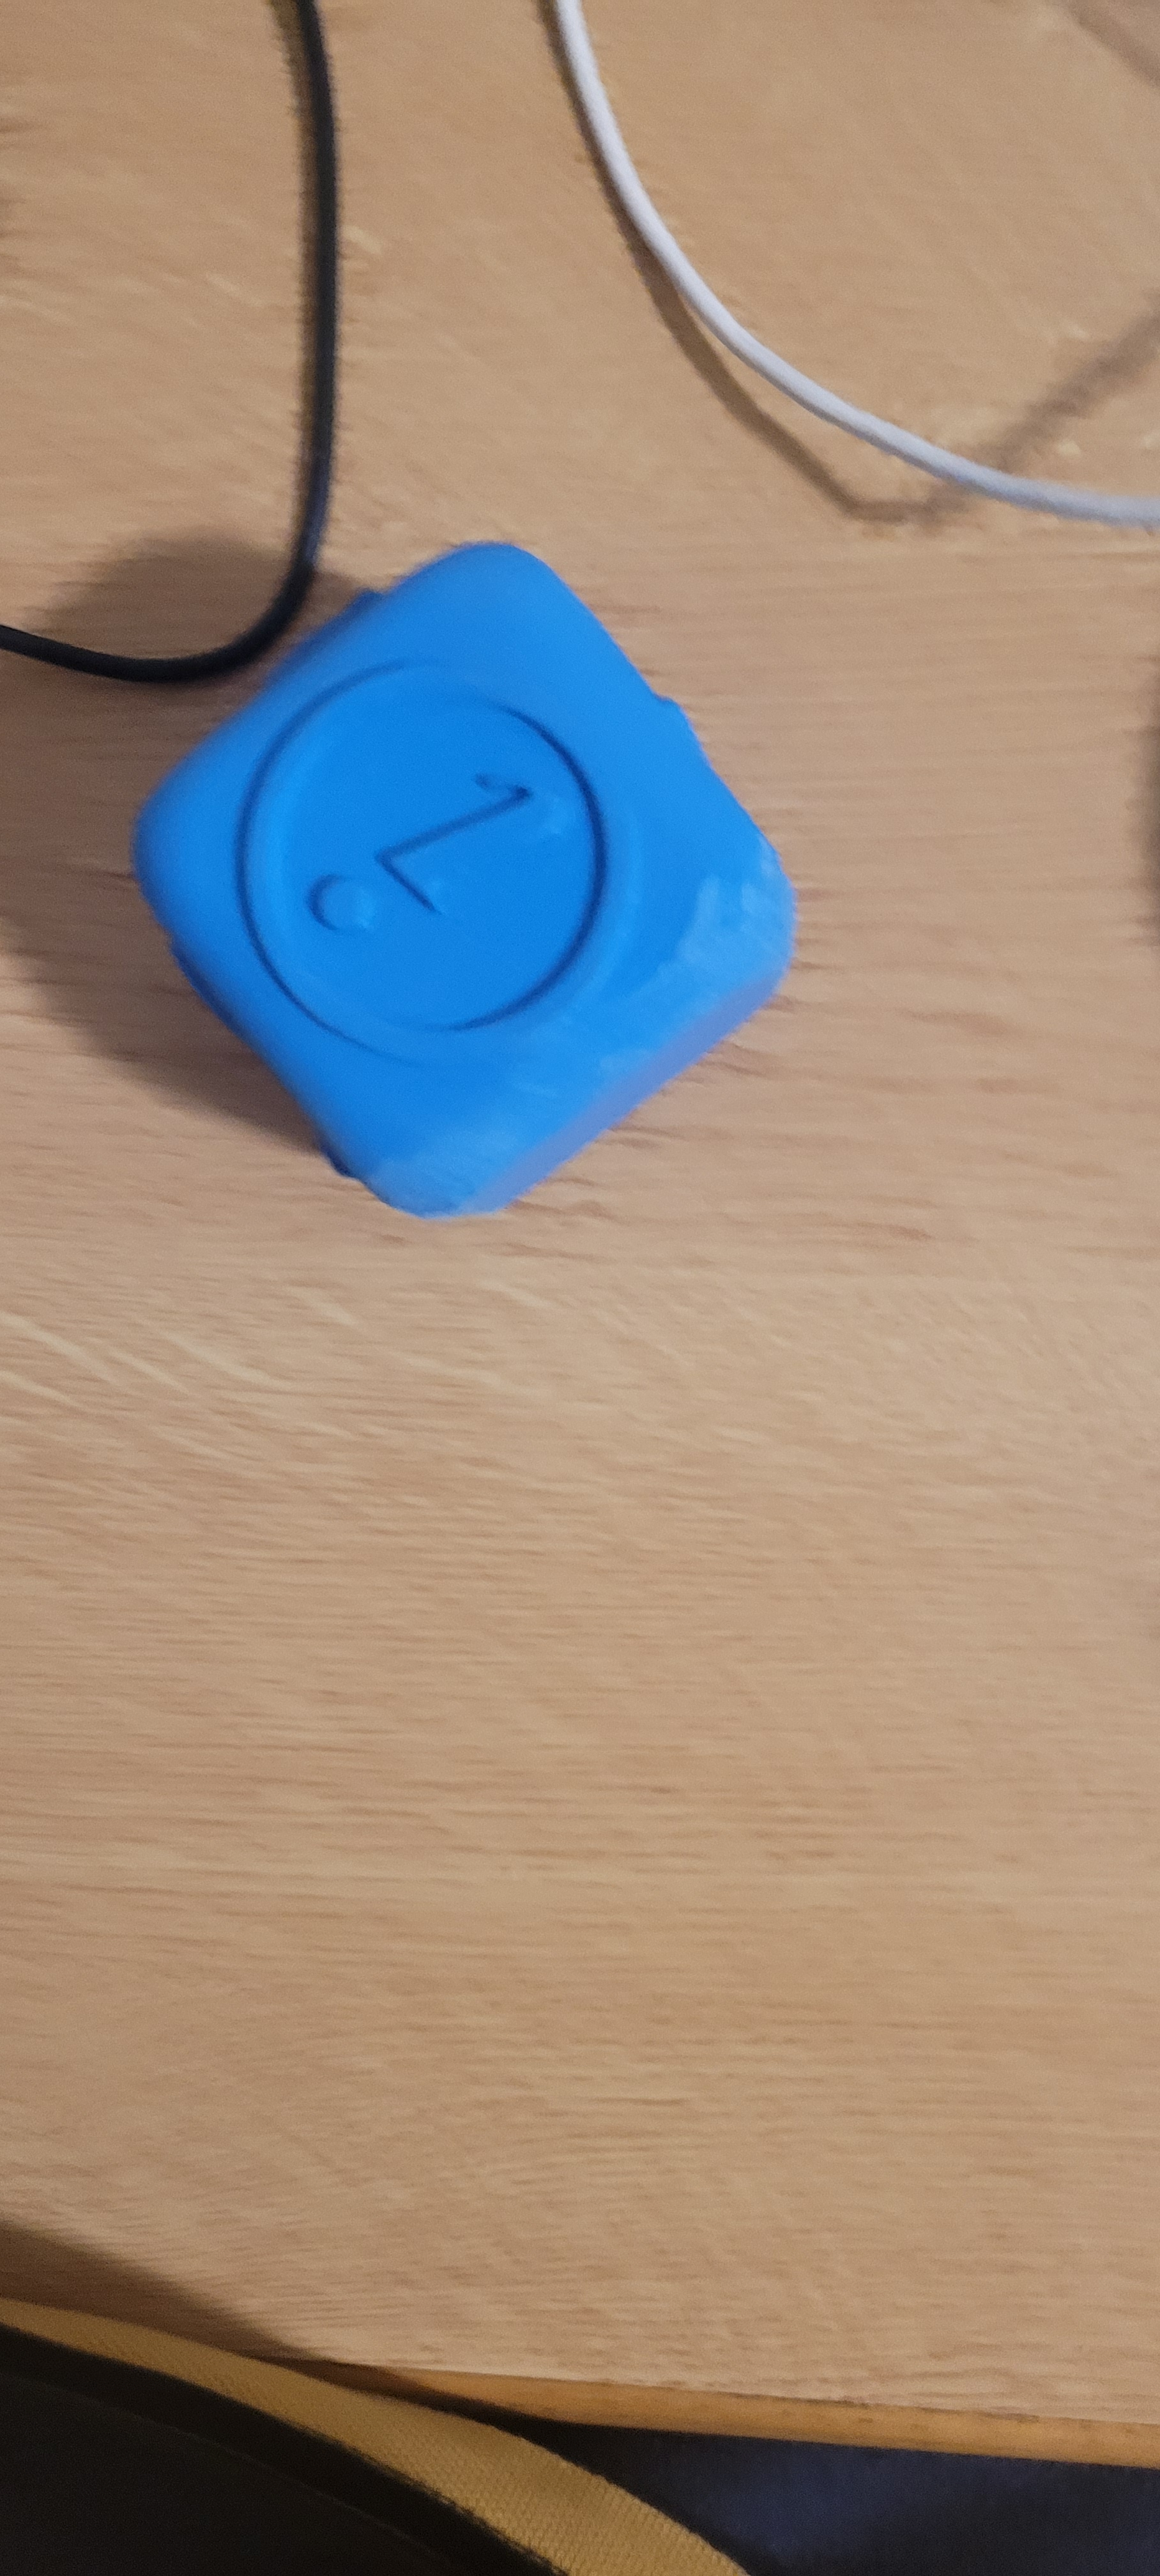Info: (235, 532, 641, 1092)
